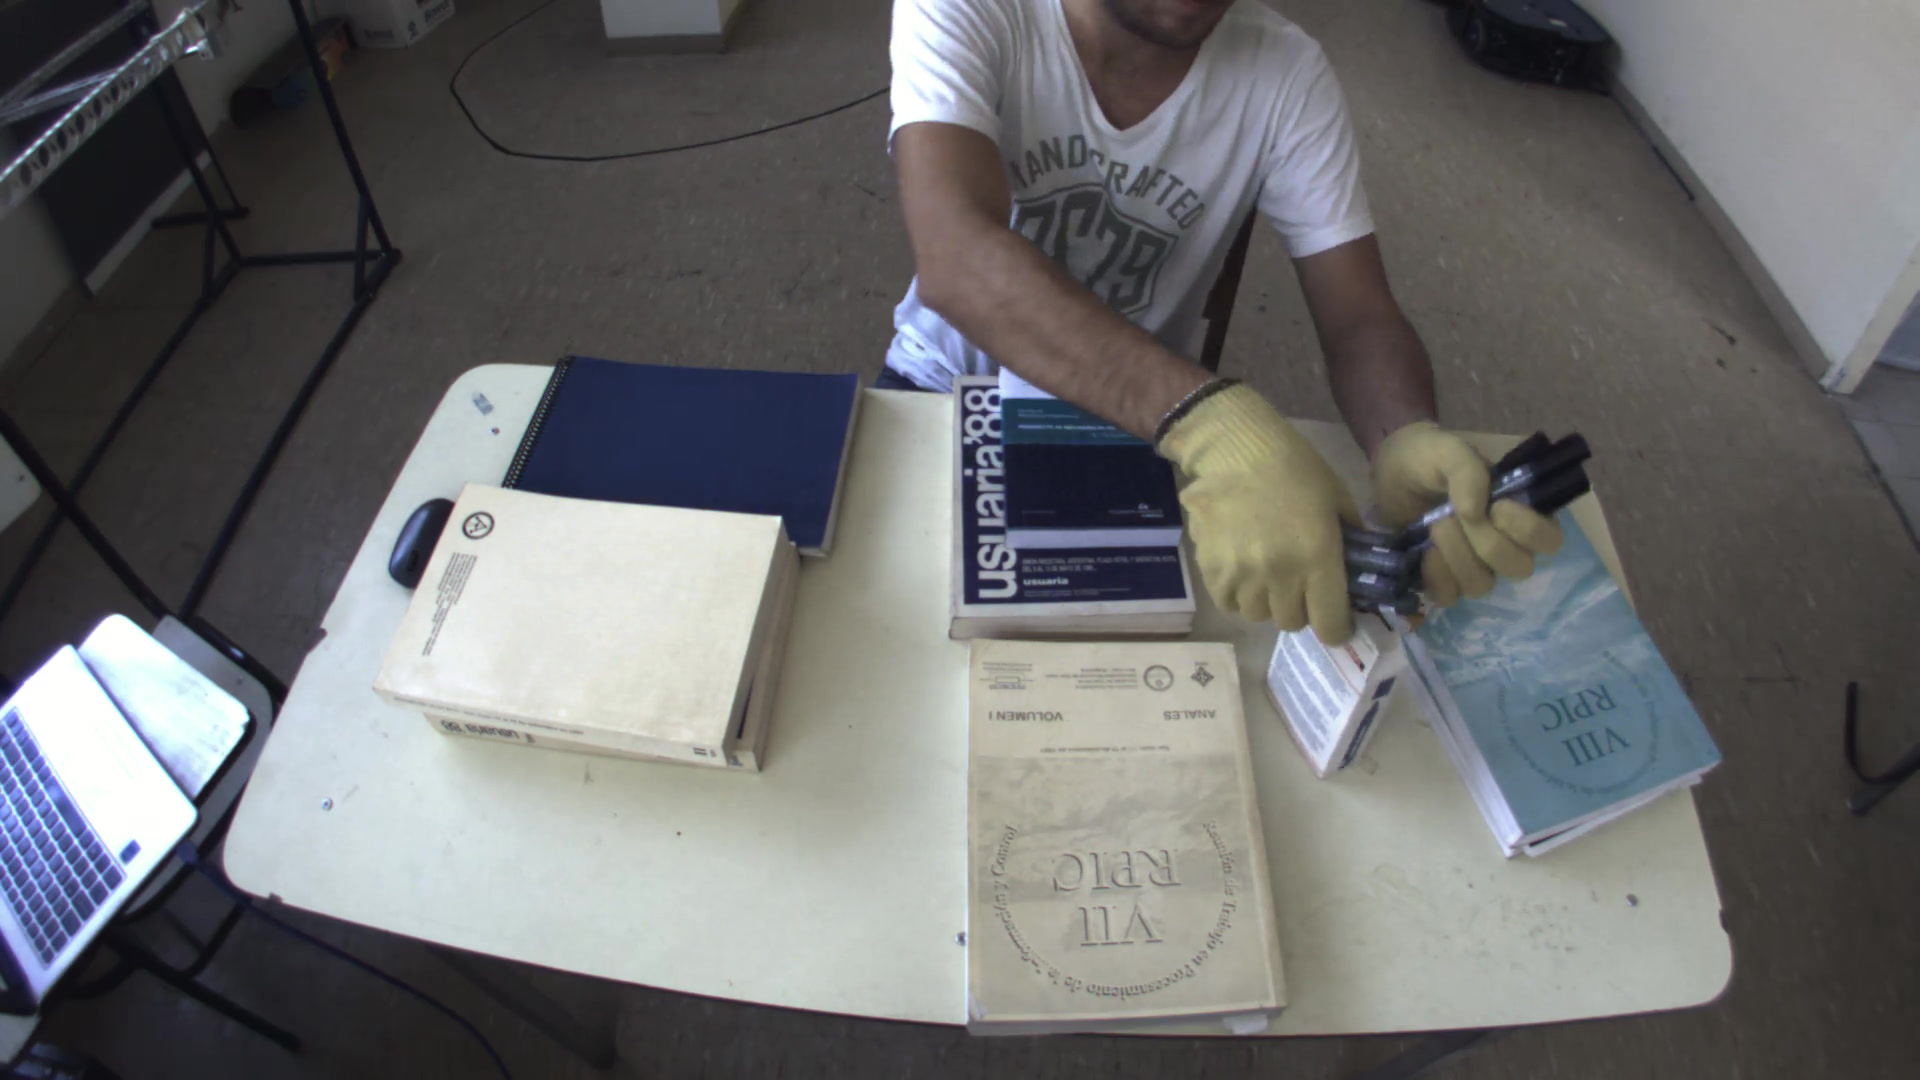hand: (1156, 380, 1367, 640), (1379, 396, 1569, 622)
